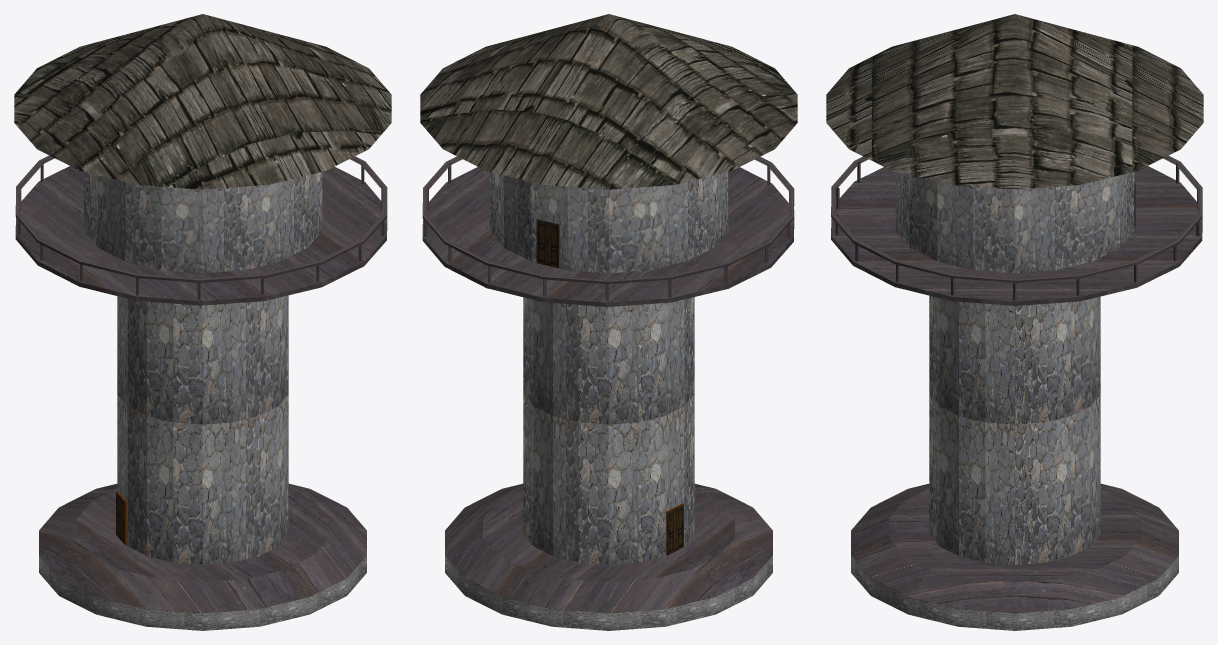
The model's file is Obj_Tower.FBX.
3 renders of one model, left to right at view 1: azimuth 30°, elevation 25°; view 2: azimuth 150°, elevation 25°; view 3: azimuth 270°, elevation 25°, orthographic.
Visible parts, largest first — view 1: Cylinder001; view 2: Cylinder001; view 3: Cylinder001.
Boxes of the visible parts, x1,y1,x2,y2 form: Cylinder001: [14, 14, 391, 630]; Cylinder001: [420, 14, 797, 630]; Cylinder001: [826, 14, 1203, 630].
Bounding box in the file's own units: 20.27 × 31.89 × 19.96.
